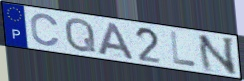2: (134, 26, 162, 64)
A: (96, 21, 136, 61)
C: (29, 12, 62, 48)
L: (169, 31, 199, 69)
N: (196, 34, 238, 76)
Q: (64, 16, 98, 54)
